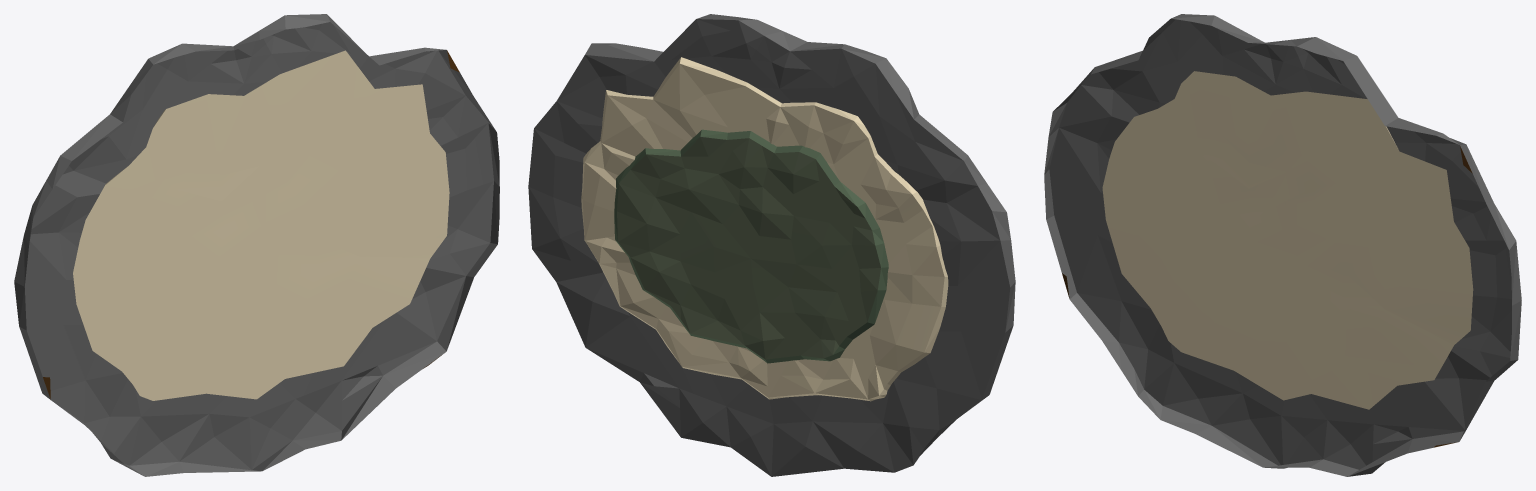
Rendered from Floting Base.fbx.
3 views of the same model, side by side, from view 1: azimuth 30°, elevation 25°; view 2: azimuth 150°, elevation 25°; view 3: azimuth 330°, elevation 25° (orthographic). The views are drawn at different scales.
Parts seen in each view (by area): view 1: M_Floting Base; view 2: M_Floting Base; view 3: M_Floting Base.
Boxes of the visible parts, x1,y1,x2,y2 form: M_Floting Base: (14,14,499,476); M_Floting Base: (528,14,1015,476); M_Floting Base: (1044,14,1521,476).
Size of the model in its own units: 2355 by 2095 by 177.
1 material, 1 textured.
